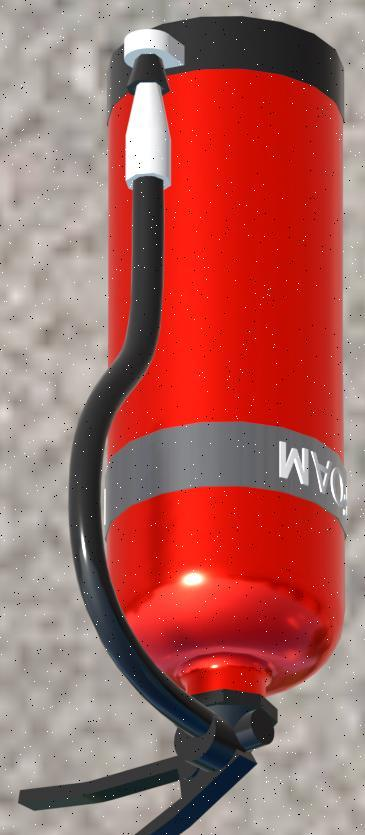Fire Extinguisher: (28, 13, 365, 835)
